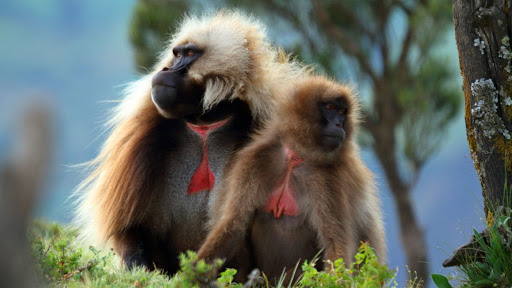Gelada: (100, 14, 267, 251), (232, 82, 364, 268)
